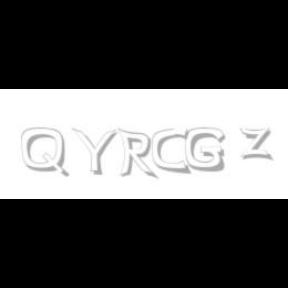C: (152, 128, 190, 174)
G: (185, 128, 225, 172)
Q: (21, 128, 67, 178)
R: (117, 128, 155, 180)
Y: (71, 128, 117, 176)
z: (239, 128, 275, 160)
